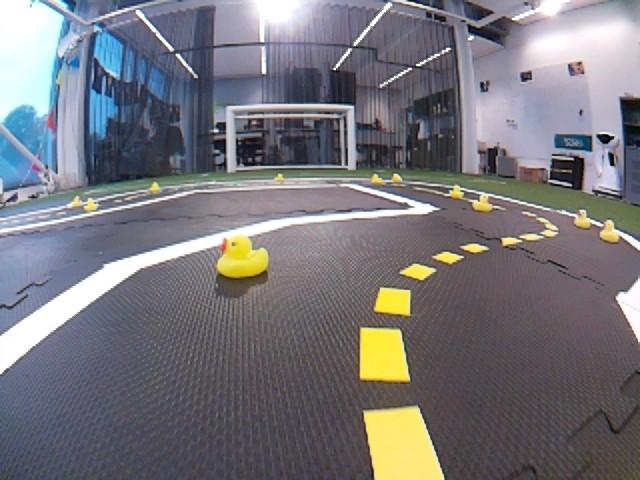Duckies: (215, 234, 269, 279), (598, 218, 622, 244), (573, 208, 594, 230), (472, 193, 494, 213), (448, 184, 464, 200), (83, 197, 97, 210), (70, 195, 83, 207), (148, 181, 161, 192), (391, 173, 403, 182), (371, 174, 383, 183), (274, 173, 285, 181)
